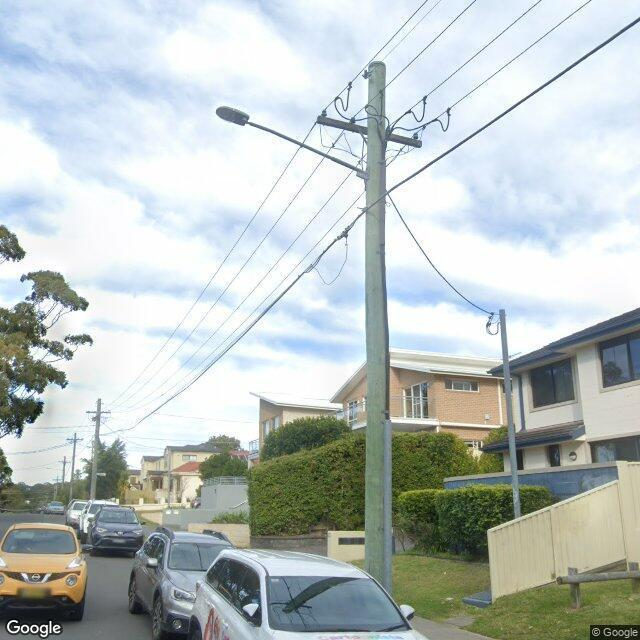crossarm: (314, 116, 422, 148), (85, 411, 112, 414), (67, 438, 84, 441), (58, 461, 70, 464), (53, 478, 62, 481)
steel-pole: (499, 308, 521, 520)
streetlight: (215, 106, 369, 178)
timber-pole: (364, 60, 394, 600), (90, 399, 102, 500), (69, 432, 77, 502), (62, 456, 66, 490), (56, 475, 58, 483)
